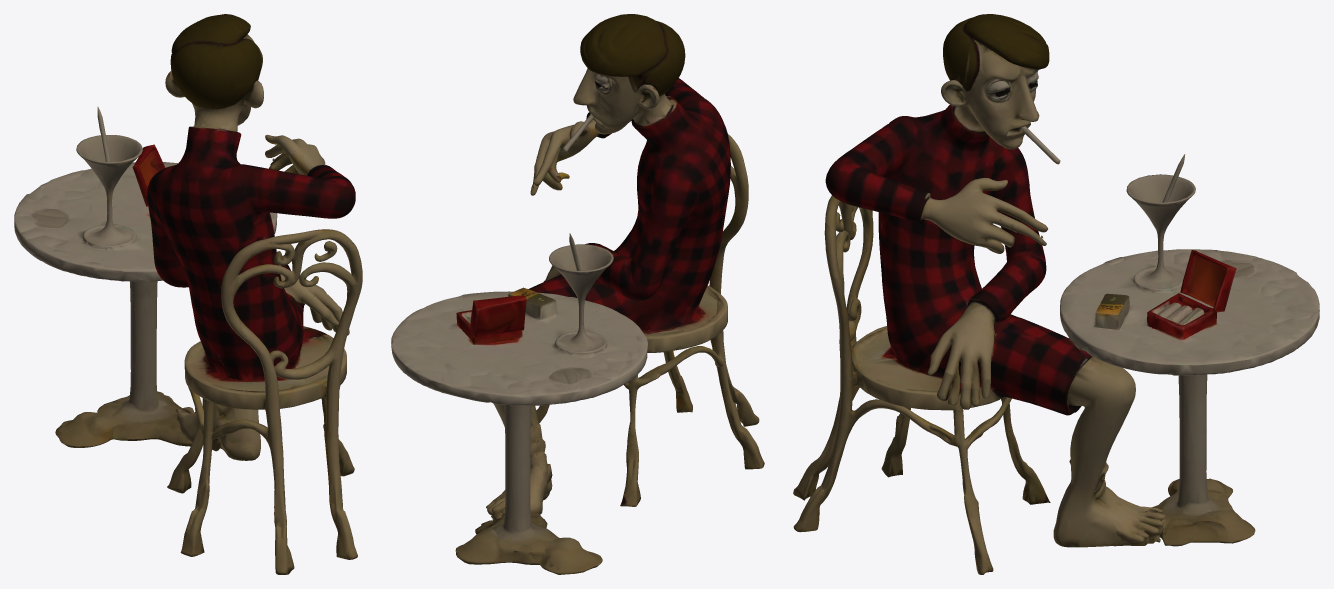
The model's file is otto-10-opt-v2.glb.
3 views of the same model, side by side, from view 1: azimuth 30°, elevation 25°; view 2: azimuth 150°, elevation 25°; view 3: azimuth 270°, elevation 25° (orthographic). The views are drawn at different scales.
Visible parts, largest first — view 1: tripo_node_7f4ec279-54df-4d1d-aa90-0405cb709751; view 2: tripo_node_7f4ec279-54df-4d1d-aa90-0405cb709751; view 3: tripo_node_7f4ec279-54df-4d1d-aa90-0405cb709751.
Boxes of the visible parts, x1,y1,x2,y2 form: tripo_node_7f4ec279-54df-4d1d-aa90-0405cb709751: (14,14,362,574); tripo_node_7f4ec279-54df-4d1d-aa90-0405cb709751: (391,14,764,574); tripo_node_7f4ec279-54df-4d1d-aa90-0405cb709751: (793,14,1319,574).
Size of the model in its own units: 0.5036 by 0.9999 by 0.9686.
Materials: 1 (1 with a texture image).
